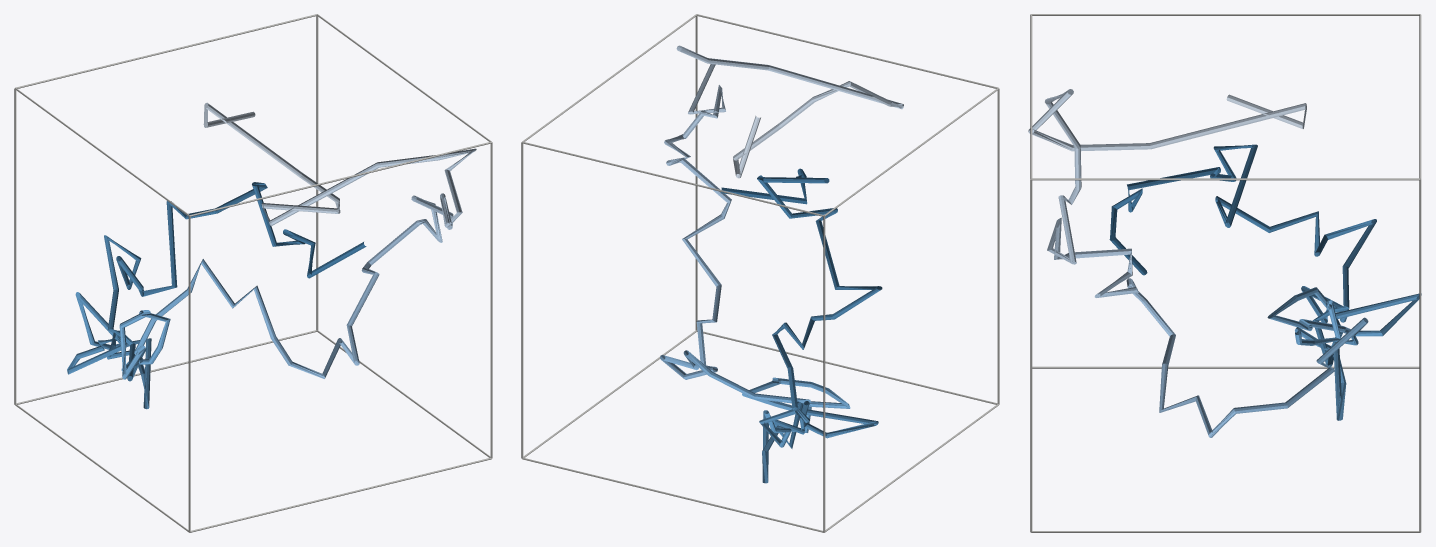
3 renders of one model, left to right at view 1: azimuth 30°, elevation 25°; view 2: azimuth 150°, elevation 25°; view 3: azimuth 270°, elevation 25°, orthographic. The views are drawn at different scales.
Visible parts, largest first — view 1: geometry_0, geometry_1; view 2: geometry_0, geometry_1; view 3: geometry_0, geometry_1.
Boxes of the visible parts, x1,y1,x2,y2 form: geometry_0: [67, 102, 476, 409]; geometry_1: [14, 14, 492, 532]; geometry_0: [660, 45, 903, 483]; geometry_1: [521, 14, 999, 532]; geometry_0: [1028, 89, 1421, 437]; geometry_1: [1030, 14, 1421, 532].
Bounding box in the file's own units: 0.3034 × 0.3028 × 0.3036.
